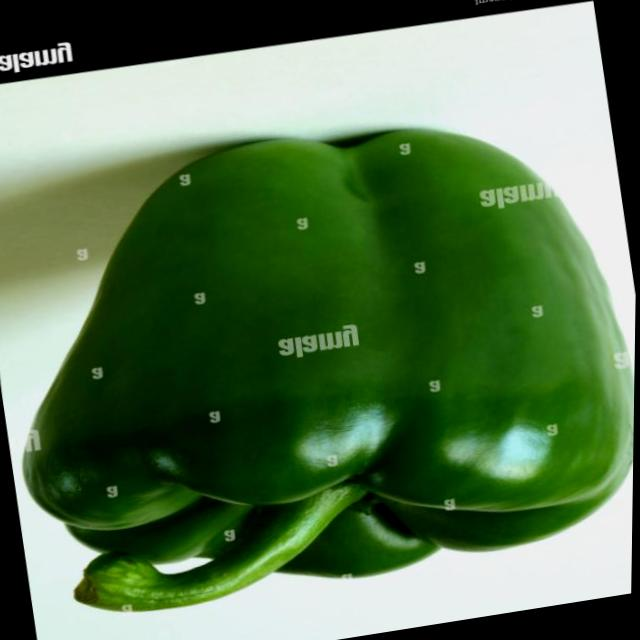Capsicum: (0, 87, 639, 631)
